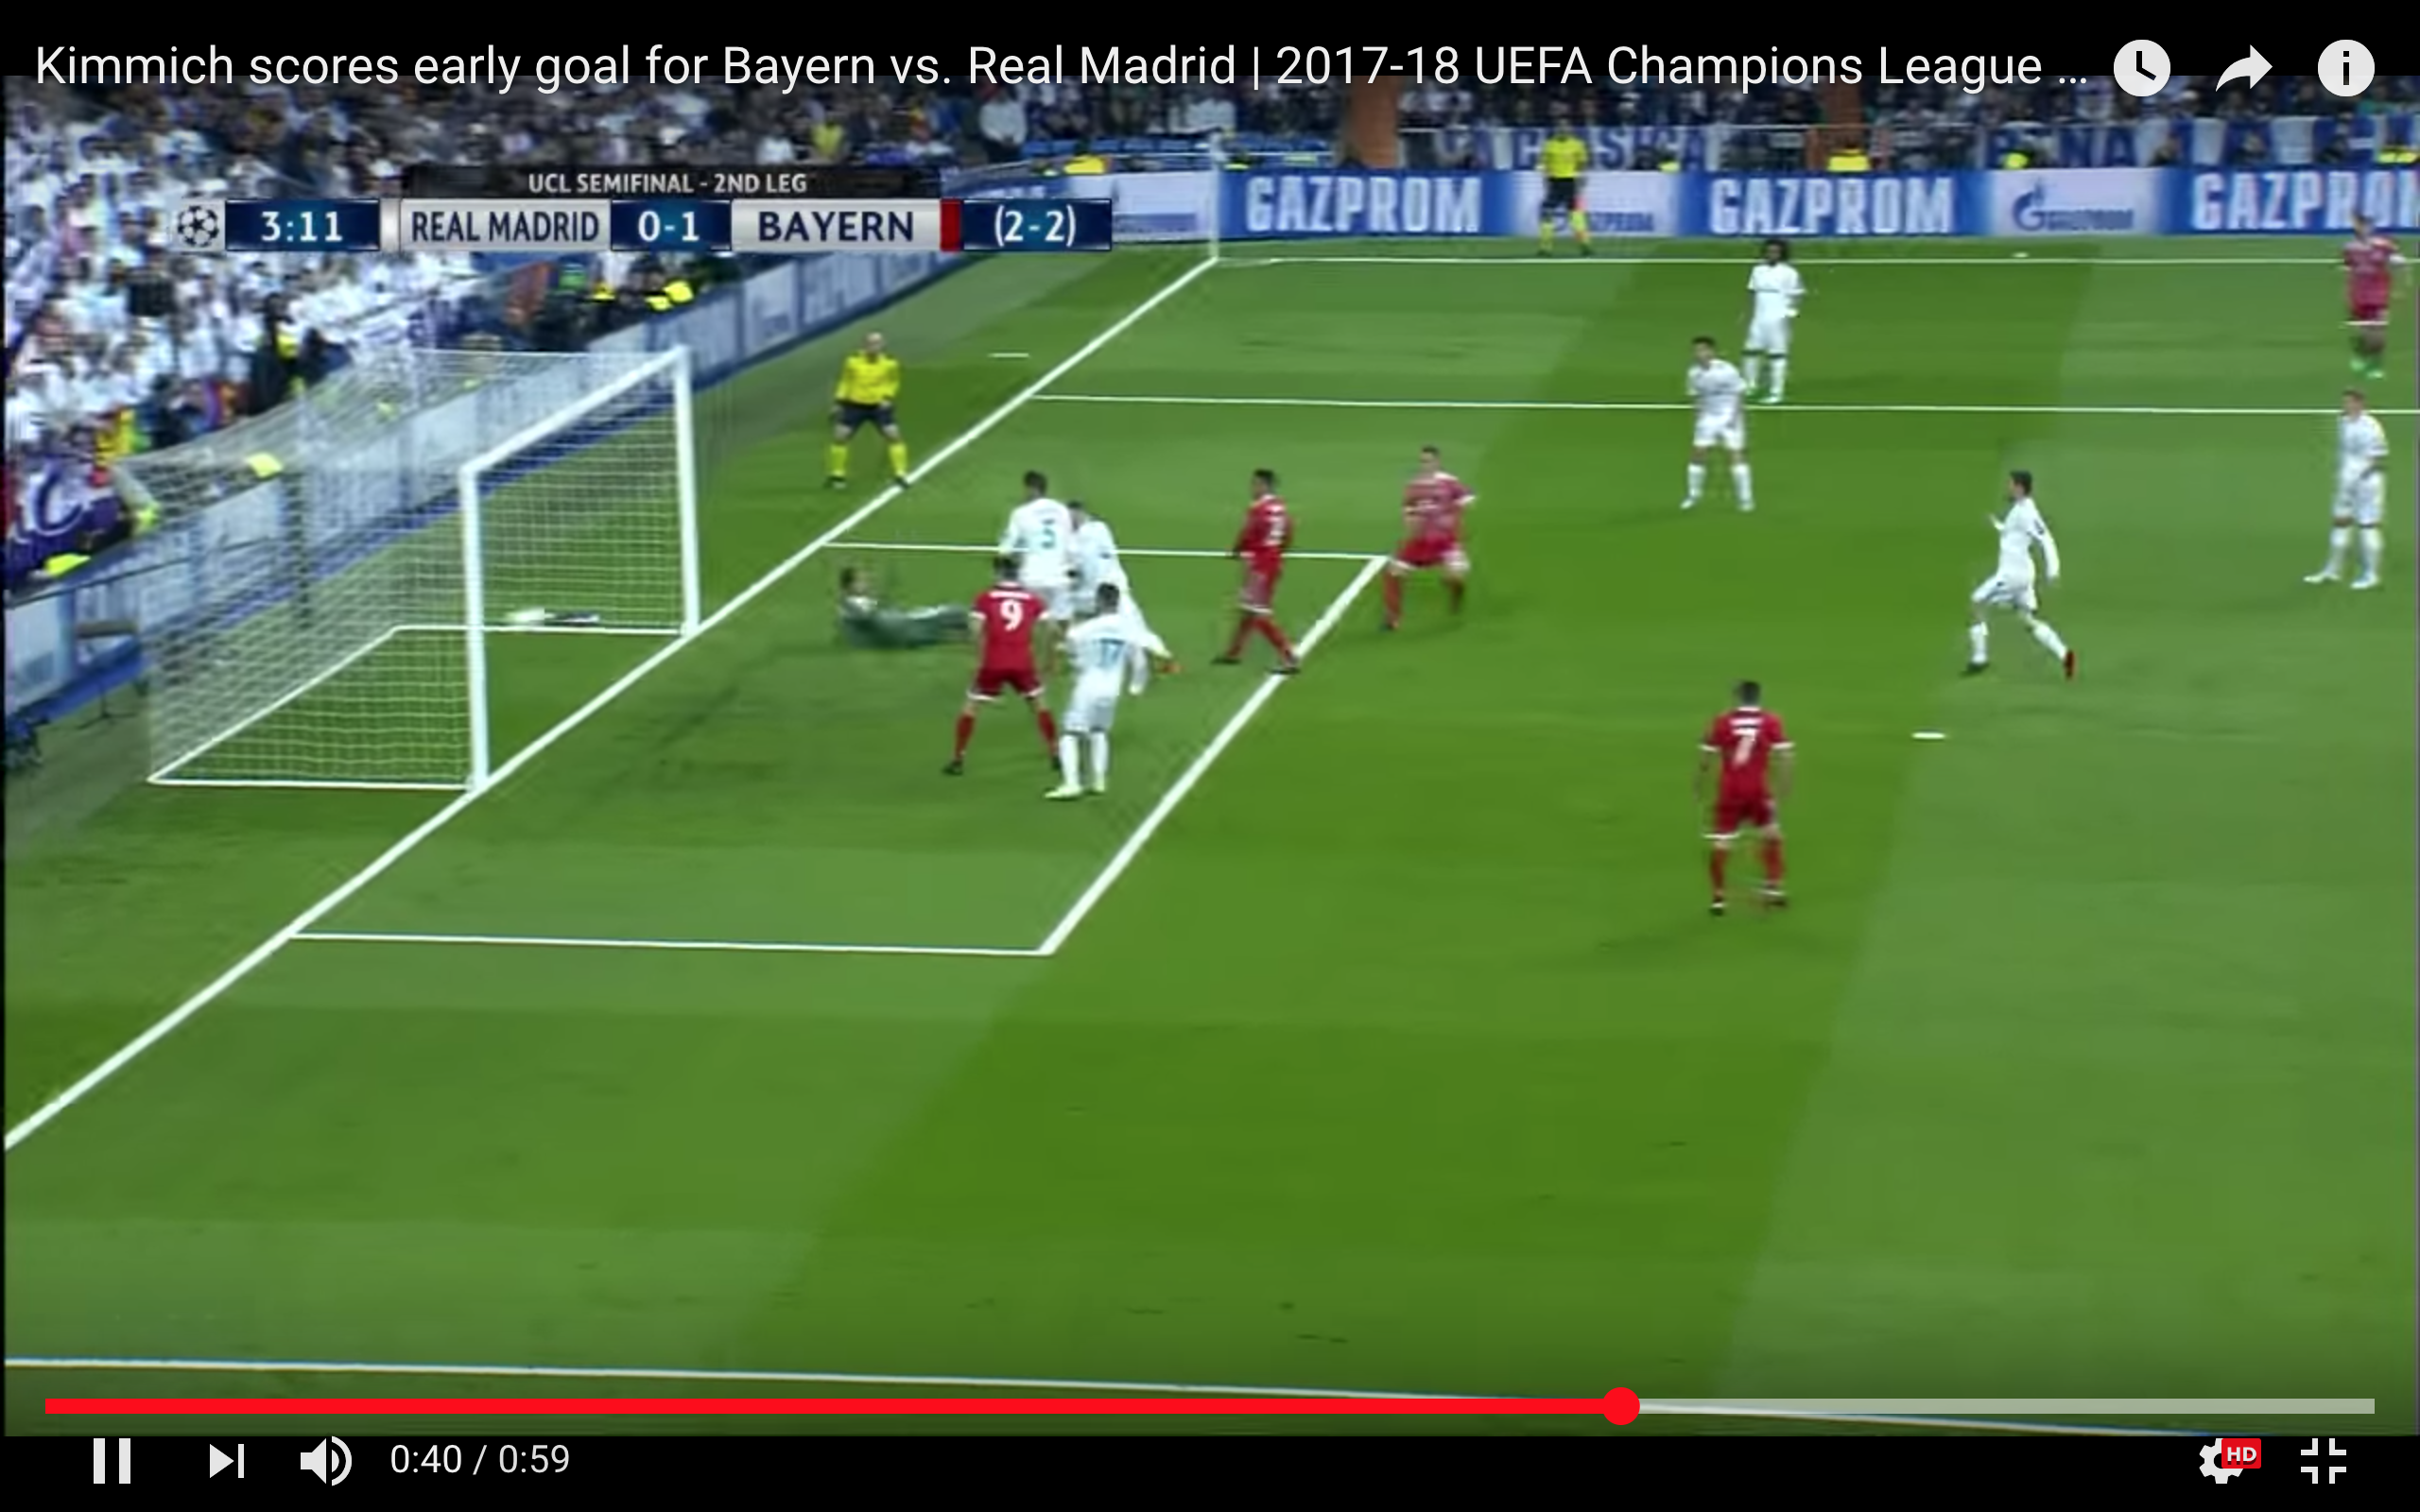referee: (814, 327, 921, 497)
soccer player: (1684, 680, 1804, 926), (942, 552, 1064, 790), (1959, 465, 2081, 693), (1365, 441, 1487, 643), (1039, 585, 1149, 800), (1057, 496, 1179, 680), (1216, 464, 1315, 682), (2303, 384, 2395, 598), (1661, 334, 1767, 517), (1721, 241, 1814, 405), (2318, 209, 2402, 383), (815, 559, 959, 659), (993, 476, 1072, 589)
